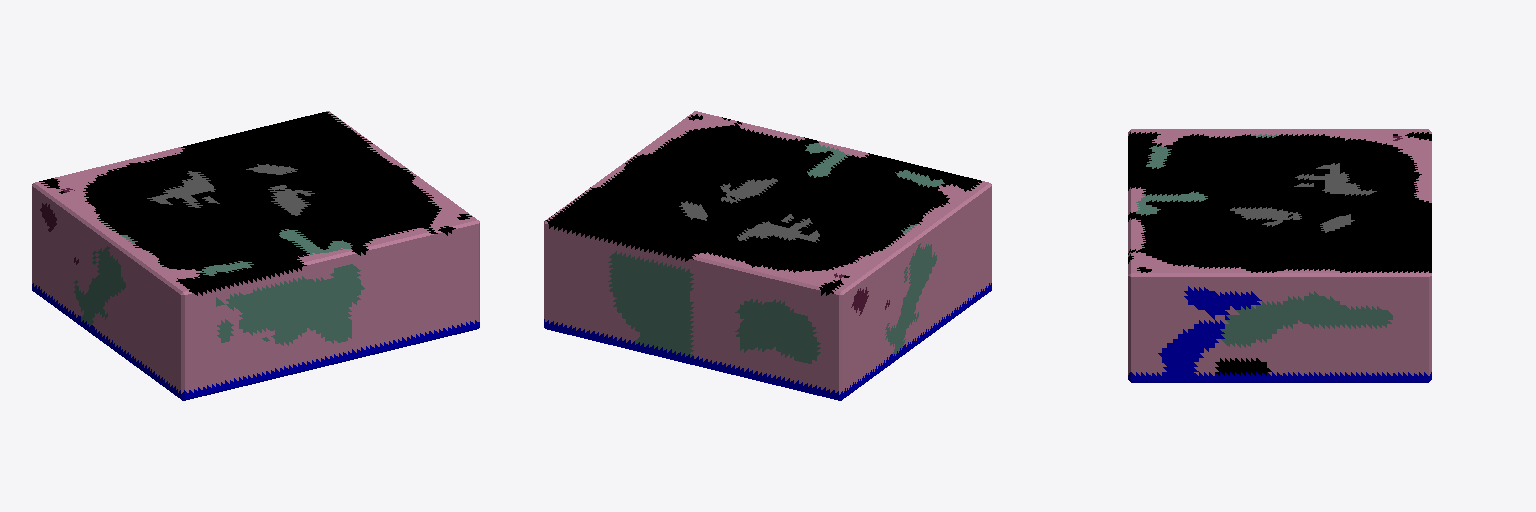
The picture shows the model from 3 angles: view 1: azimuth 30°, elevation 25°; view 2: azimuth 150°, elevation 25°; view 3: azimuth 270°, elevation 25°; orthographic projection.
Parts seen in each view (by area): view 1: Input_prediction_mesh; view 2: Input_prediction_mesh; view 3: Input_prediction_mesh.
Boxes of the visible parts, x1,y1,x2,y2 form: Input_prediction_mesh: [32, 111, 479, 400]; Input_prediction_mesh: [544, 111, 991, 400]; Input_prediction_mesh: [1128, 129, 1431, 382].
Bounding box in the file's own units: 5.28 × 1.84 × 4.64.